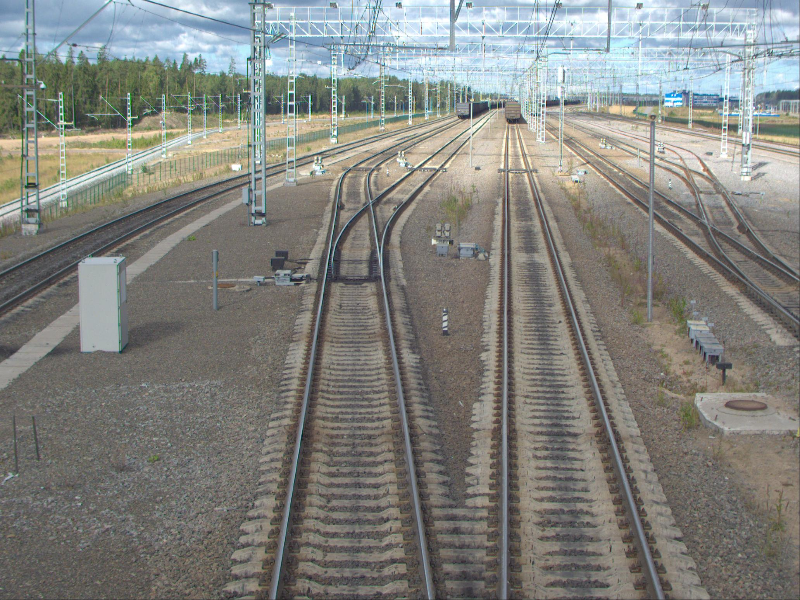straight: (326, 188, 393, 283)
